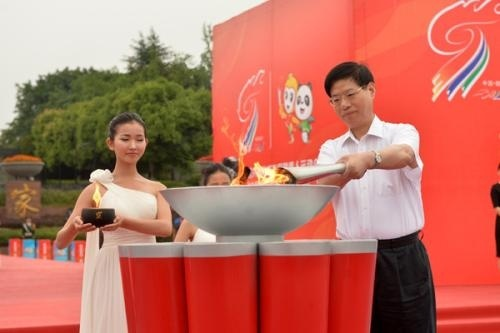fire: (215, 120, 294, 184), (90, 181, 106, 208)
